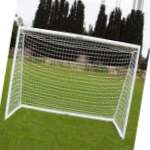goals: (6, 26, 139, 142)
